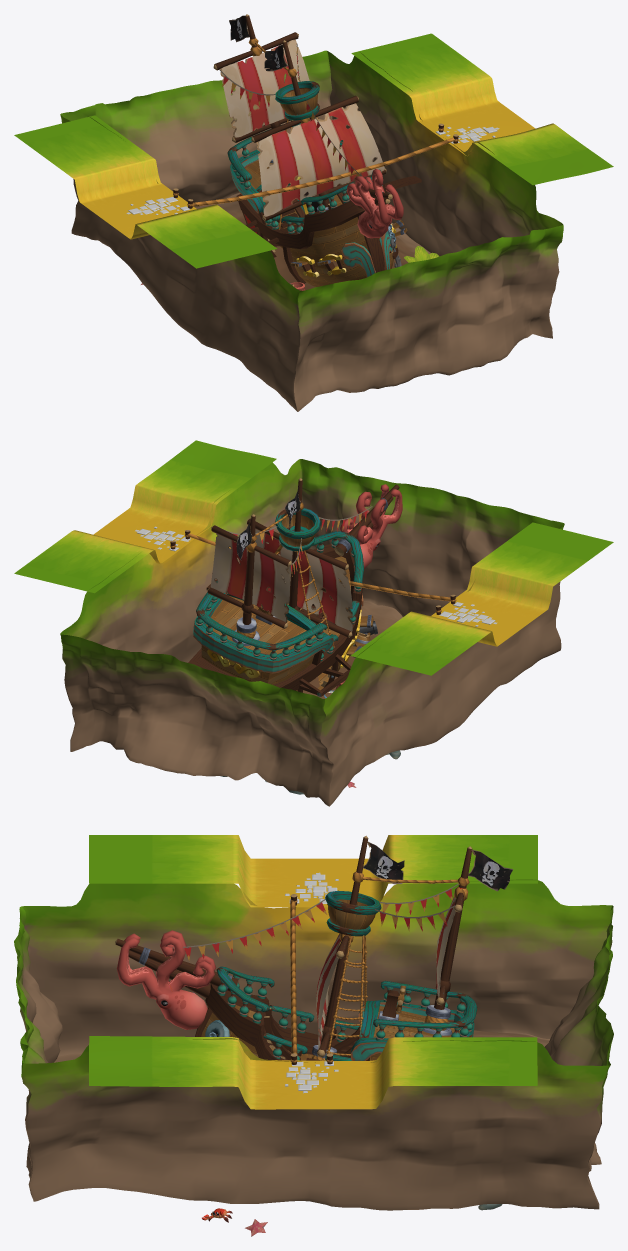
The model's file is Boat.fbx.
The picture shows the model from 3 angles, top to bottom: view 1: azimuth 30°, elevation 25°; view 2: azimuth 150°, elevation 25°; view 3: azimuth 270°, elevation 25°; orthographic projection. The views are drawn at different scales.
Parts seen in each view (by area): view 1: polySurface9, polySurface10, polySurface11, polySurface256, polySurface139, polySurface183, polySurface529, polySurface735, polySurface680, polySurface205, polySurface173, polySurface177 (+1 smaller); view 2: polySurface9, polySurface10, polySurface11, polySurface197, polySurface257, polySurface148, polySurface205, polySurface139, polySurface529, polySurface129, polySurface180, polySurface130 (+6 smaller); view 3: polySurface9, polySurface11, polySurface10, polySurface529, polySurface139, polySurface148, polySurface129, polySurface180, polySurface172, polySurface205, polySurface260, polySurface200 (+11 smaller).
Part boxes in pixels (x1,y1,x2,y2): polySurface9: (60, 50, 563, 411); polySurface10: (14, 115, 277, 268); polySurface11: (351, 33, 613, 185); polySurface256: (257, 103, 385, 218); polySurface139: (236, 184, 393, 286); polySurface183: (220, 39, 309, 137); polySurface529: (346, 169, 403, 238); polySurface735: (192, 137, 454, 206); polySurface680: (341, 231, 392, 277); polySurface205: (230, 141, 341, 213); polySurface173: (275, 81, 319, 104); polySurface177: (251, 95, 358, 142); polySurface9: (60, 459, 564, 806); polySurface10: (350, 522, 613, 675); polySurface11: (14, 440, 276, 593); polySurface197: (210, 533, 289, 622); polySurface257: (255, 529, 352, 632); polySurface148: (201, 593, 323, 684); polySurface205: (193, 592, 333, 673); polySurface139: (188, 544, 362, 690); polySurface529: (340, 484, 402, 568); polySurface129: (196, 581, 326, 650); polySurface180: (242, 514, 256, 624); polySurface130: (312, 531, 363, 583); polySurface9: (14, 879, 613, 1210); polySurface11: (89, 1036, 537, 1109); polySurface10: (89, 835, 537, 907); polySurface529: (116, 930, 216, 1029); polySurface139: (195, 984, 352, 1060); polySurface148: (359, 1001, 460, 1060); polySurface129: (373, 980, 477, 1028); polySurface180: (434, 846, 472, 1009); polySurface172: (321, 835, 368, 1049); polySurface205: (351, 1000, 474, 1060); polySurface260: (468, 849, 512, 891); polySurface200: (363, 841, 404, 883).
Size of the model in its own units: 386 by 235 by 390.
